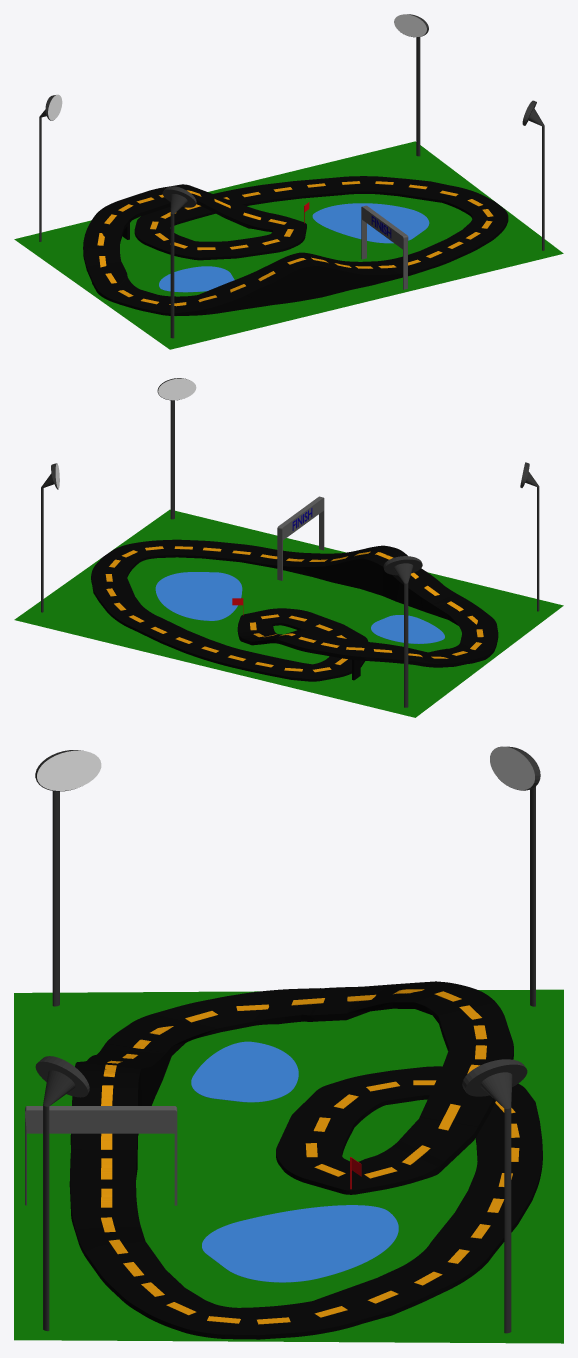
File: Track#1(1).fbx
3 renders of one model, top to bottom at view 1: azimuth 30°, elevation 25°; view 2: azimuth 150°, elevation 25°; view 3: azimuth 270°, elevation 25°, orthographic. The views are drawn at different scales.
Parts seen in each view (by area): view 1: Plane, Cube, Cube.046, Cube.023, Cylinder.007, Cube.002, Cylinder.003, Cylinder, Cylinder.004, Cylinder.005; view 2: Plane, Cube, Cube.046, Cube.023, Cylinder.005, Cube.002, Cylinder.001, Cylinder, Cylinder.007, Cylinder.003; view 3: Plane, Cube, Cube.046, Cube.023, Cube.002, Cylinder.003, Cylinder, Cylinder.008, Cylinder.007, Cylinder.005, Cylinder.006.
Part boxes in pixels (box(x1,y1,x2,y2)): Plane: box(14, 141, 563, 349); Cube: box(83, 176, 508, 315); Cube.046: box(312, 203, 429, 243); Cube.023: box(159, 266, 234, 292); Cylinder.007: box(162, 186, 196, 338); Cube.002: box(361, 205, 408, 289); Cylinder.003: box(400, 14, 428, 156); Cylinder: box(522, 100, 544, 250); Cylinder.004: box(394, 14, 426, 37); Cylinder.005: box(39, 95, 55, 241); Plane: box(14, 509, 563, 717); Cube: box(91, 539, 498, 681); Cube.046: box(155, 572, 242, 620); Cube.023: box(371, 615, 444, 643); Cylinder.005: box(383, 556, 422, 707); Cube.002: box(277, 496, 324, 580); Cylinder.001: box(158, 378, 196, 400); Cylinder: box(157, 378, 186, 519); Cylinder.007: box(520, 462, 539, 611); Cylinder.003: box(41, 463, 58, 612); Plane: box(14, 989, 563, 1343); Cube: box(69, 981, 542, 1339); Cube.046: box(202, 1205, 398, 1282); Cube.023: box(191, 1041, 298, 1102); Cube.002: box(25, 1106, 177, 1205); Cylinder.003: box(462, 1059, 527, 1333); Cylinder: box(35, 1056, 89, 1331); Cylinder.008: box(37, 750, 101, 790); Cylinder.007: box(35, 750, 83, 1006); Cylinder.005: box(498, 746, 540, 1006); Cylinder.006: box(490, 746, 534, 790).
Bounding box in the file's own units: 2544 × 930 × 1671.
